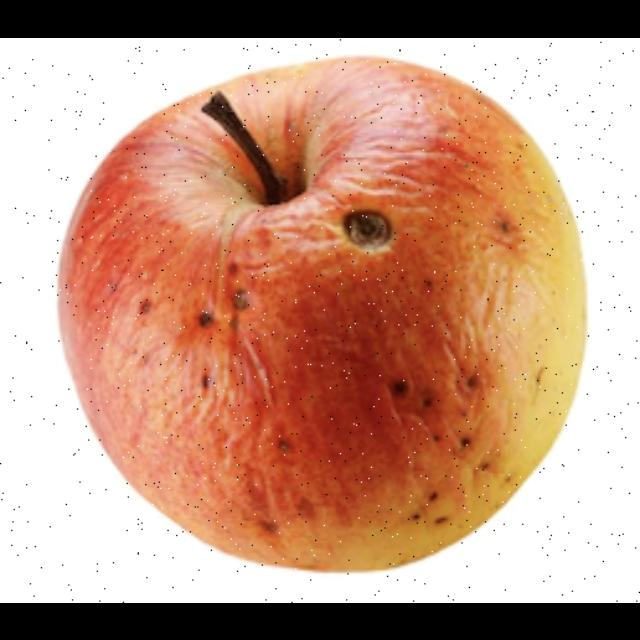Apel Tidak Segar: (41, 48, 600, 580)
